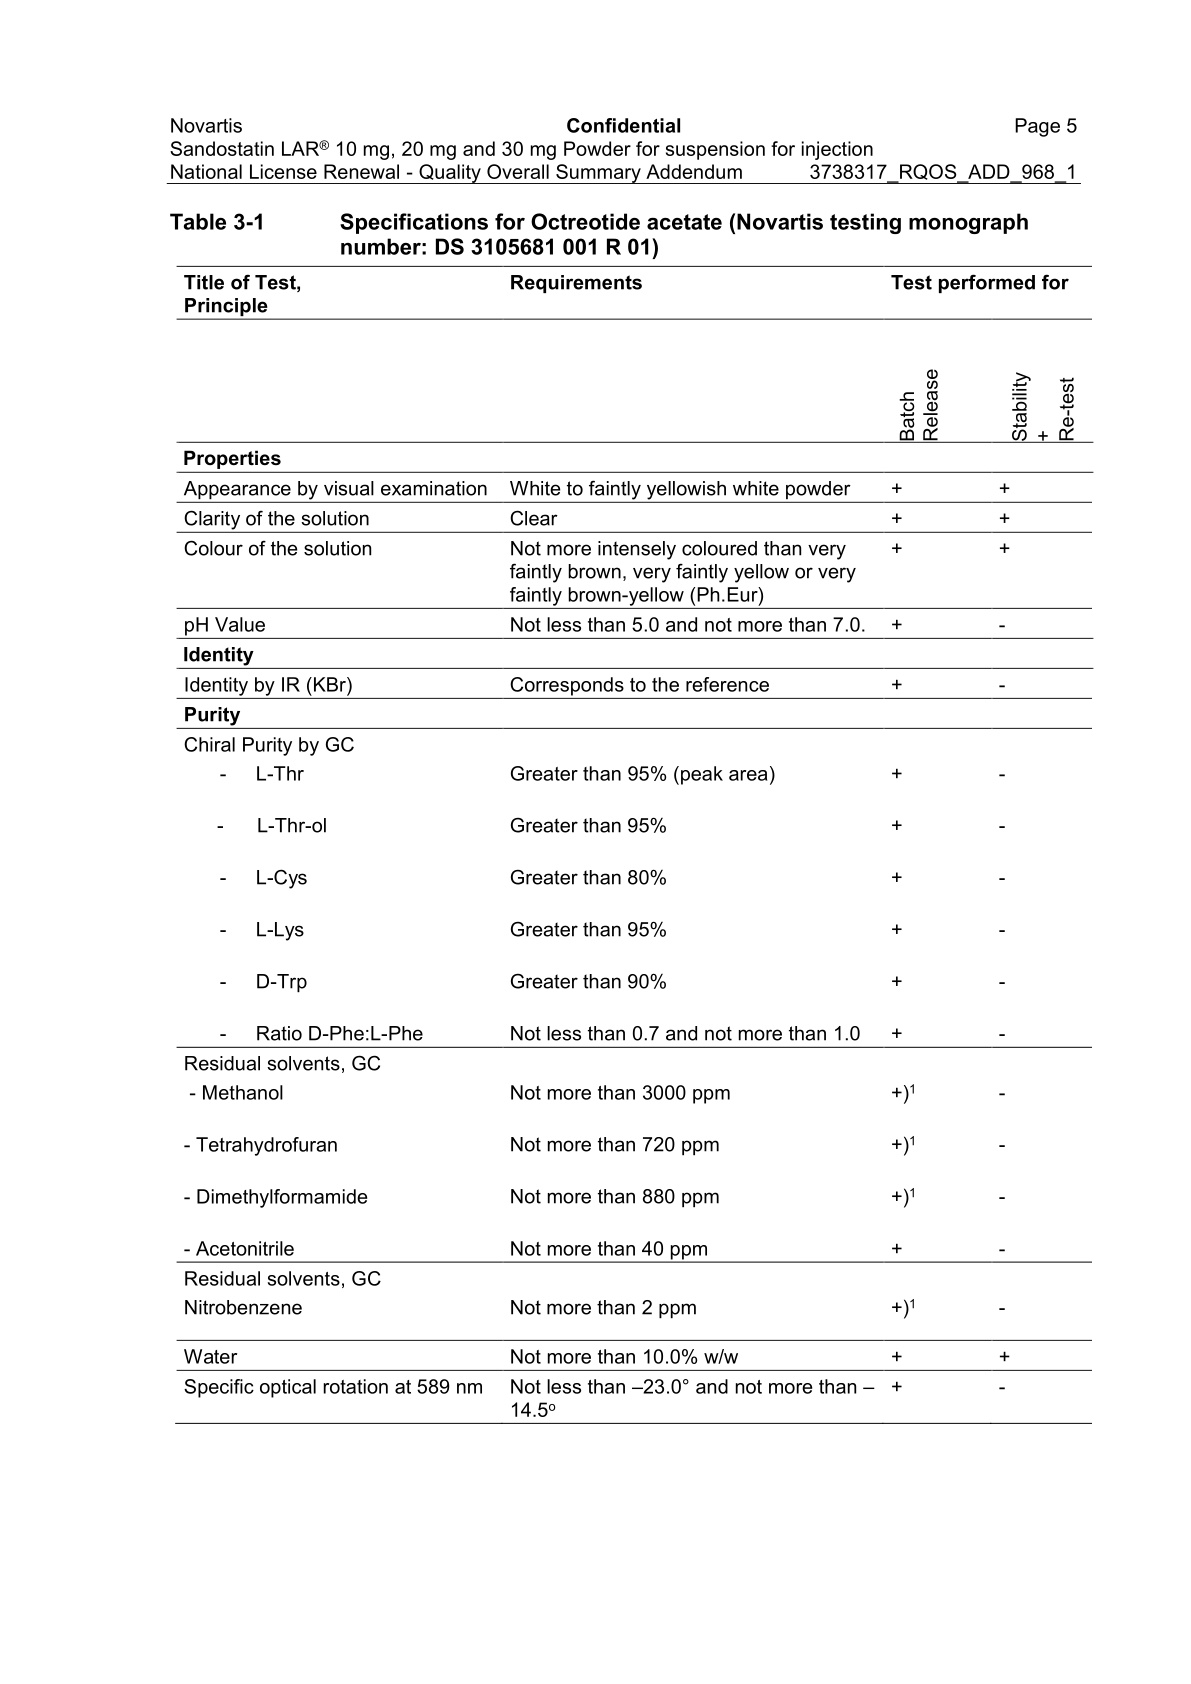partial_lined: (175, 263, 1092, 1424)
